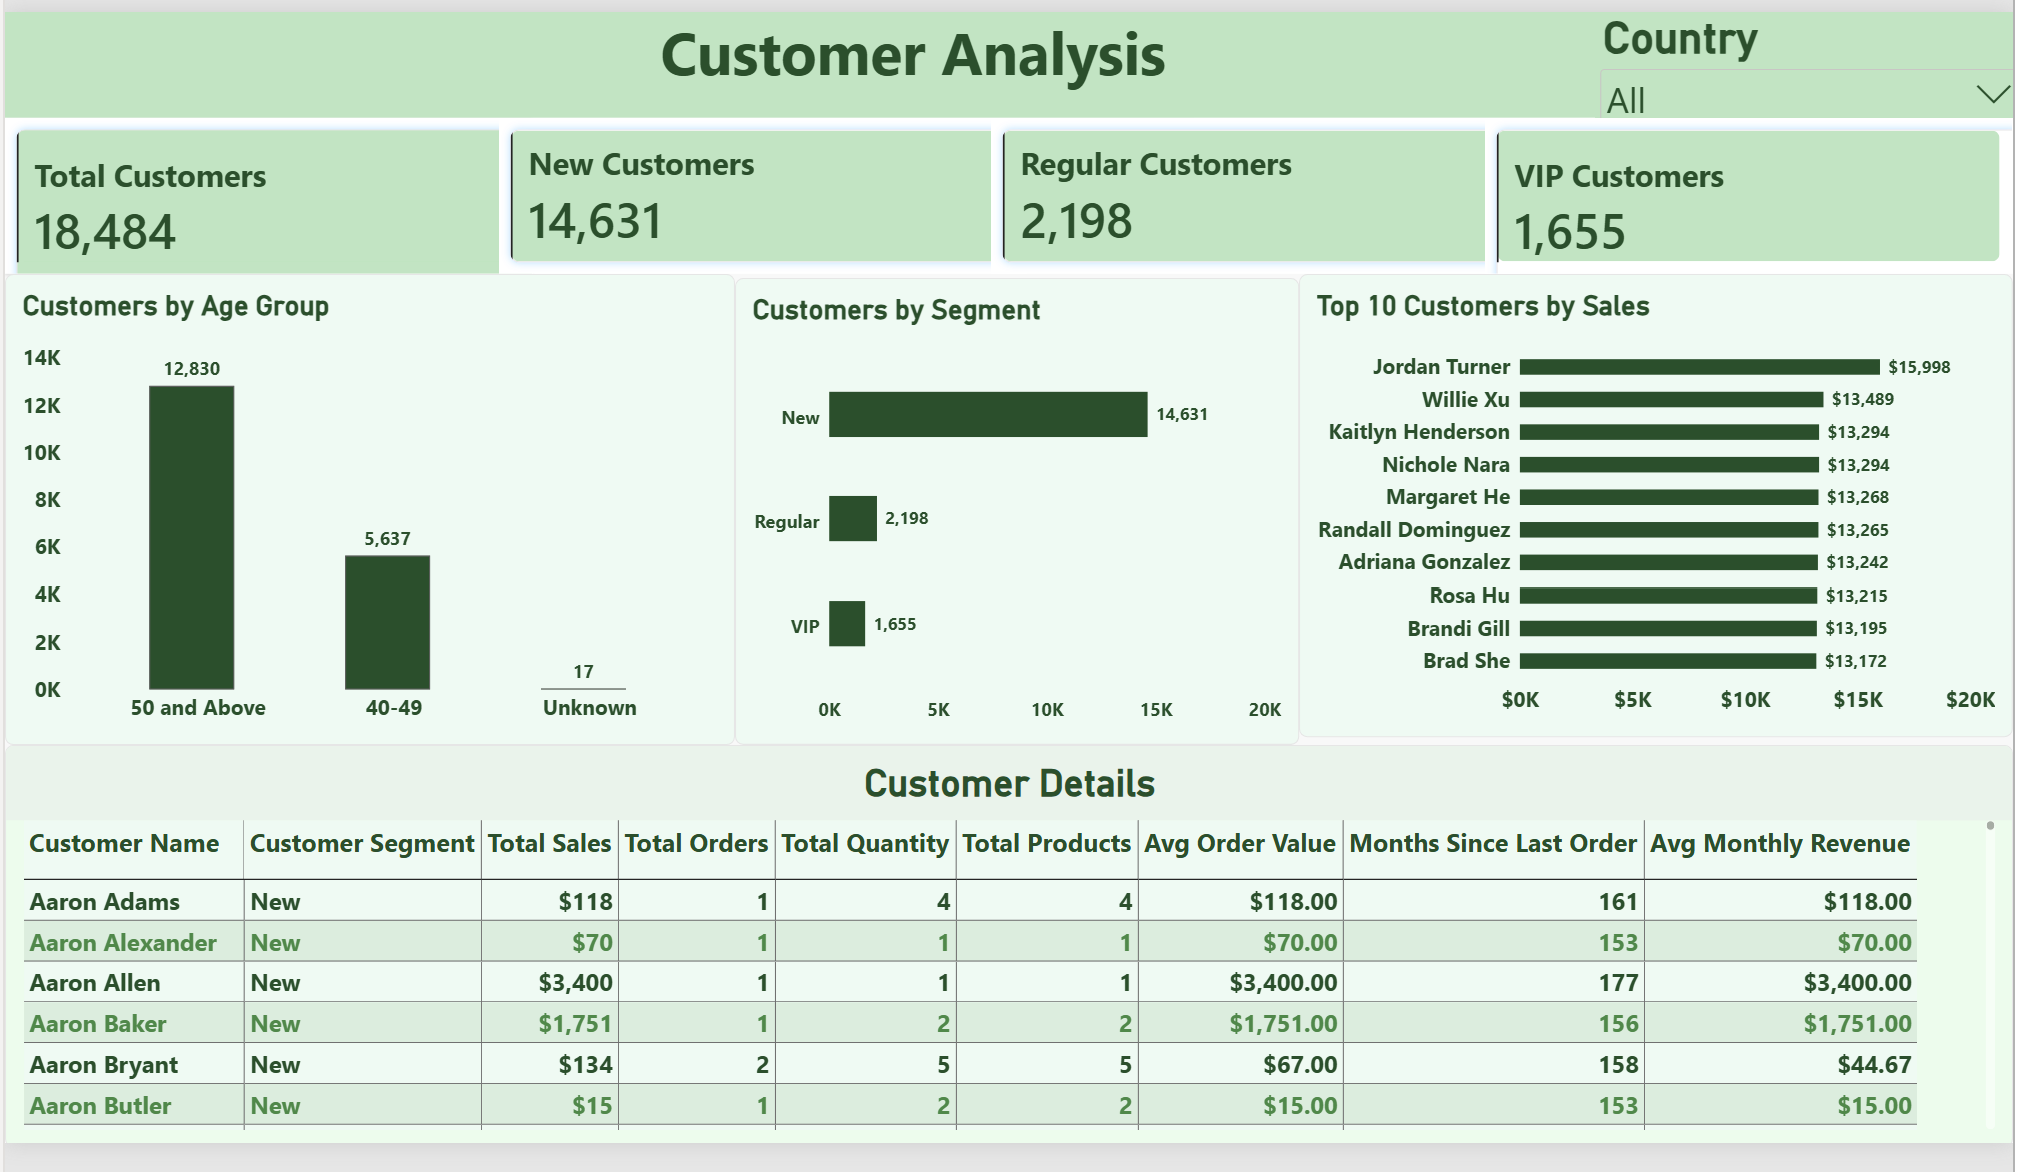

Layout of this report page (visuals, bound fields, positions):
{"tool":"powerbi","page":{"name":"Customer Analysis","canvas":[1920,1080],"ordinal":3},"visuals":[{"type":"clusteredBarChart","title":"Customers by Segment","fields":{"Category":["dim_customers.Customer Segment"],"Y":["fact_sales.Total Customers"]},"box":[698,254.3,539.3,445.6],"z":0},{"type":"cardVisual","fields":{"Data":["fact_sales.Total Customers"]},"box":[0,101.4,504.9,149.2],"z":1000},{"type":"cardVisual","fields":{"Data":["fact_sales.New Customers"]},"box":[472.4,101.4,504.9,149.2],"z":2000},{"type":"cardVisual","fields":{"Data":["fact_sales.Regular Customers"]},"box":[942.8,101.4,504.9,149.2],"z":3000},{"type":"clusteredColumnChart","title":"Customers by Age Group","fields":{"Category":["dim_customers.Age Group"],"Y":["fact_sales.Total Customers"]},"box":[0,250.5,698,449.4],"z":4000},{"type":"clusteredBarChart","title":"Top 10 Customers by Sales ","fields":{"Category":["dim_customers.Customer Name"],"Y":["fact_sales.Total Sales"]},"box":[1237.3,250.5,682.7,441.8],"z":5000},{"type":"tableEx","title":"Customer Details","fields":{"Values":["dim_customers.Customer Name","dim_customers.Customer Segment","dim_customers.Customer Total Sales","dim_customers.Customer Total Orders","dim_customers.Customer Total Quantity","dim_customers.Customer Total Products","dim_customers.Customer Average Order Value","dim_customers.Months Since Last Order","dim_customers.Customer Average Monthly Revenue"]},"box":[0,699.9,1920,384.4],"z":6000},{"type":"textbox","box":[0,0,1520.4,101.1],"z":7000},{"type":"slicer","fields":{"Values":["dim_customers.country"]},"box":[1520.4,0,408.8,119.4],"z":8000},{"type":"cardVisual","fields":{"Data":["fact_sales.VIP Customers"]},"box":[1415.1,101.4,504.9,149.2],"z":9000}]}

Visuals, with their boxes in screenshot pixels (x1, y1, x2, y2), scaled from the page's 1920x1080 canvas onto the 2024x1172 screenshot:
"Customers by Segment" clusteredBarChart: [736, 276, 1304, 760]
cardVisual - fact_sales.Total Customers: [0, 110, 532, 272]
cardVisual - fact_sales.New Customers: [498, 110, 1030, 272]
cardVisual - fact_sales.Regular Customers: [994, 110, 1526, 272]
"Customers by Age Group" clusteredColumnChart: [0, 272, 736, 760]
"Top 10 Customers by Sales " clusteredBarChart: [1304, 272, 2023, 751]
"Customer Details" tableEx: [0, 760, 2023, 1171]
textbox: [0, 0, 1603, 110]
slicer - dim_customers.country: [1603, 0, 2023, 130]
cardVisual - fact_sales.VIP Customers: [1492, 110, 2023, 272]
